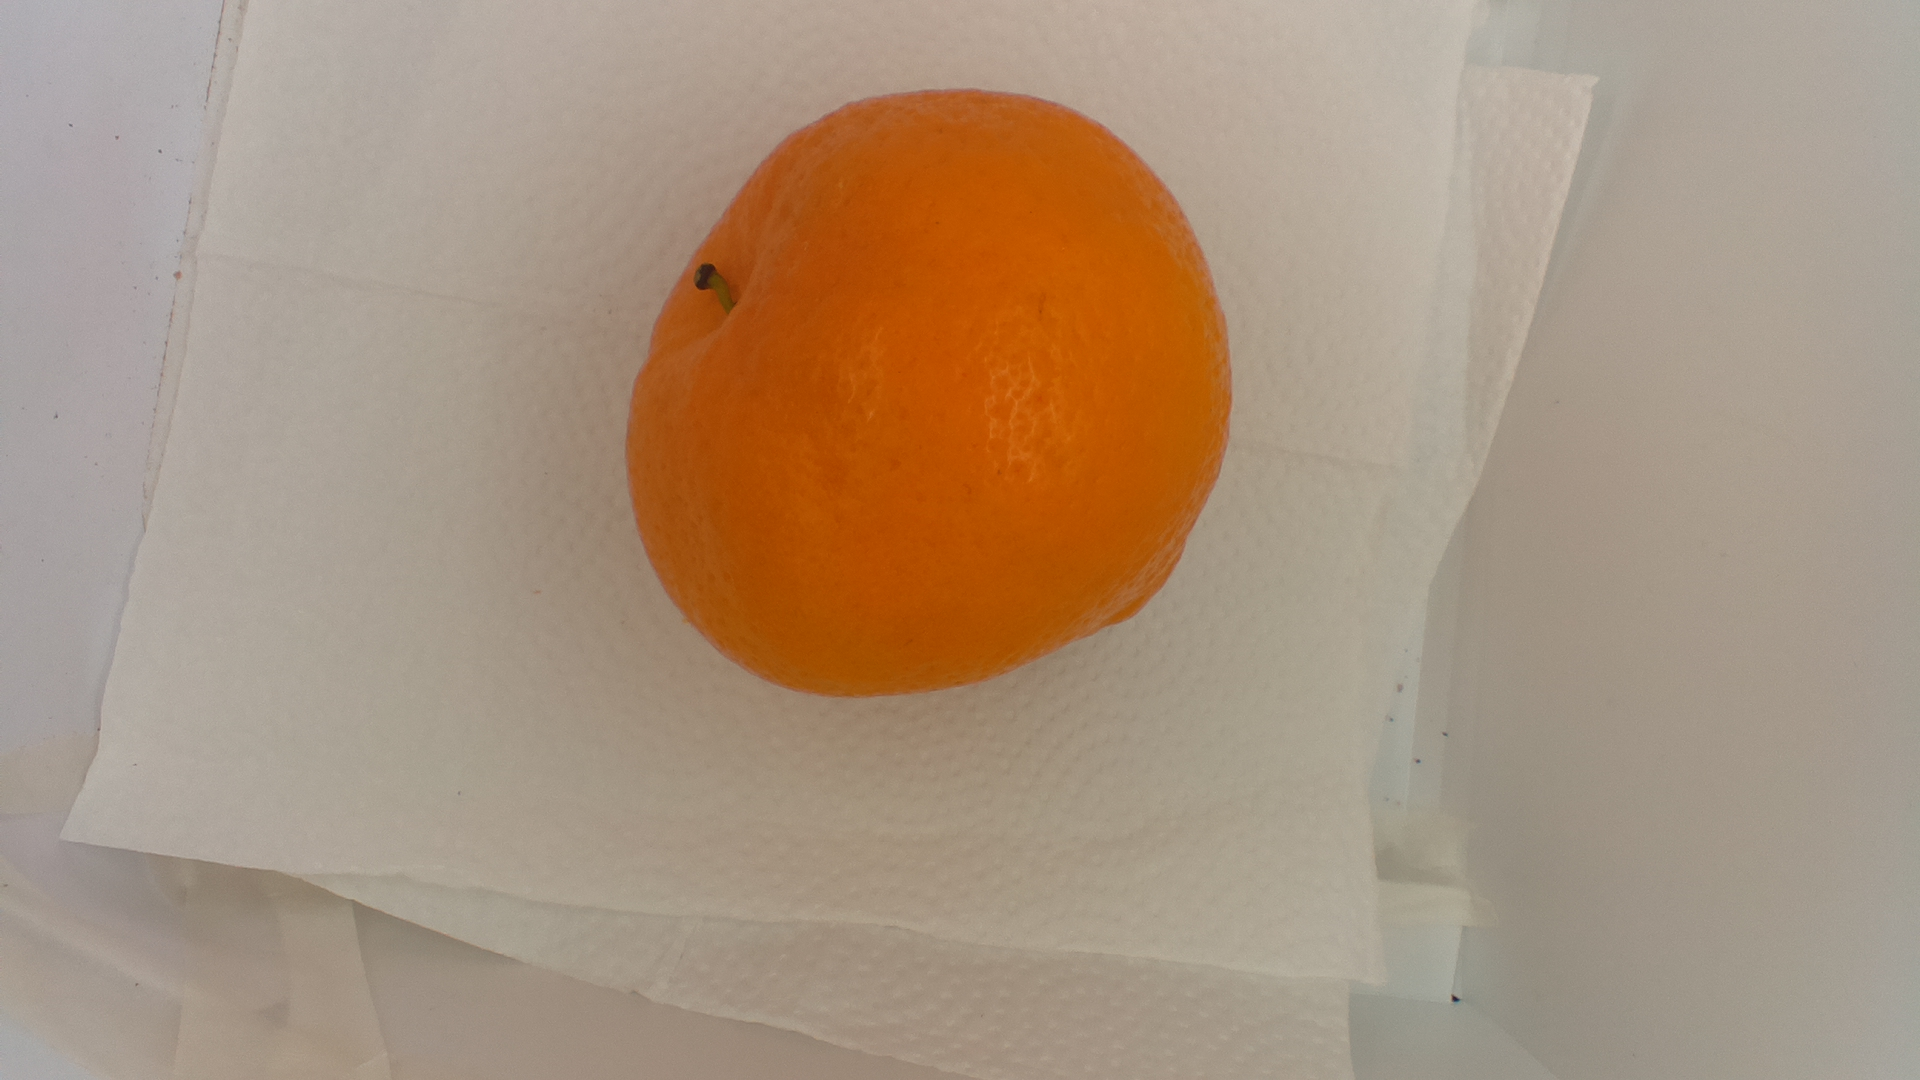fruit: (618, 86, 1244, 709)
